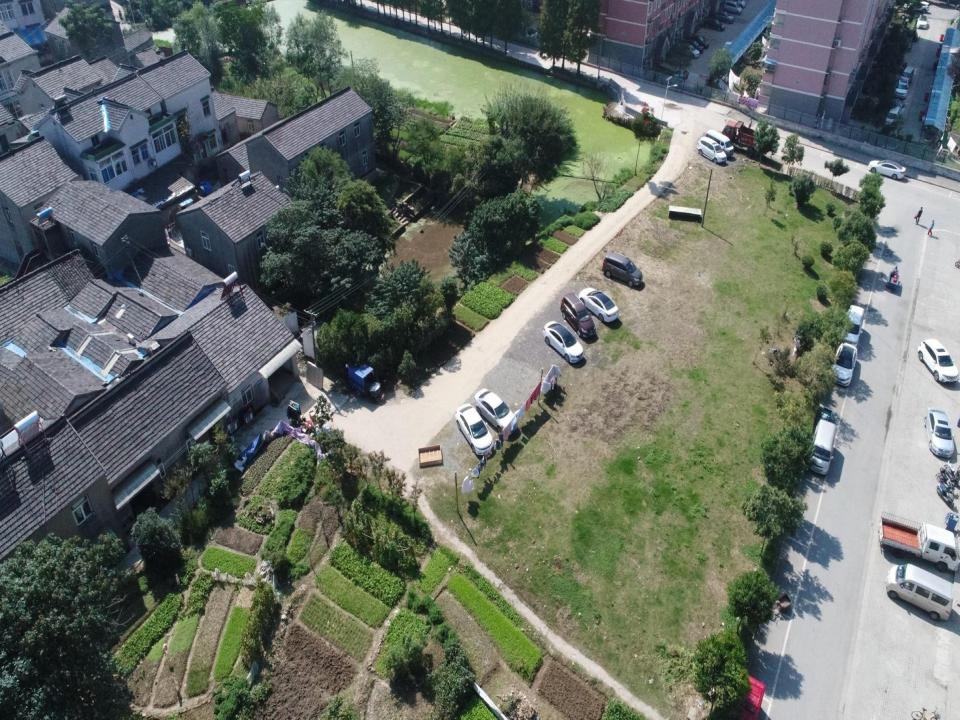car: (475, 388, 519, 436), (454, 404, 493, 456), (543, 321, 584, 365), (917, 339, 958, 382), (560, 292, 596, 339), (924, 409, 954, 458), (577, 288, 619, 322), (603, 253, 643, 287), (832, 342, 857, 386), (868, 159, 906, 180), (688, 35, 710, 50), (677, 45, 700, 59), (903, 1, 930, 12), (713, 11, 735, 24), (681, 40, 704, 52), (895, 79, 908, 99), (705, 19, 725, 31), (673, 68, 688, 82), (917, 13, 929, 28)
truck: (879, 512, 958, 572), (724, 121, 766, 156)
van: (885, 562, 954, 620), (813, 419, 836, 474), (842, 305, 864, 349), (706, 130, 734, 156), (698, 138, 726, 163), (885, 105, 900, 127), (722, 1, 743, 15), (901, 66, 915, 82)
